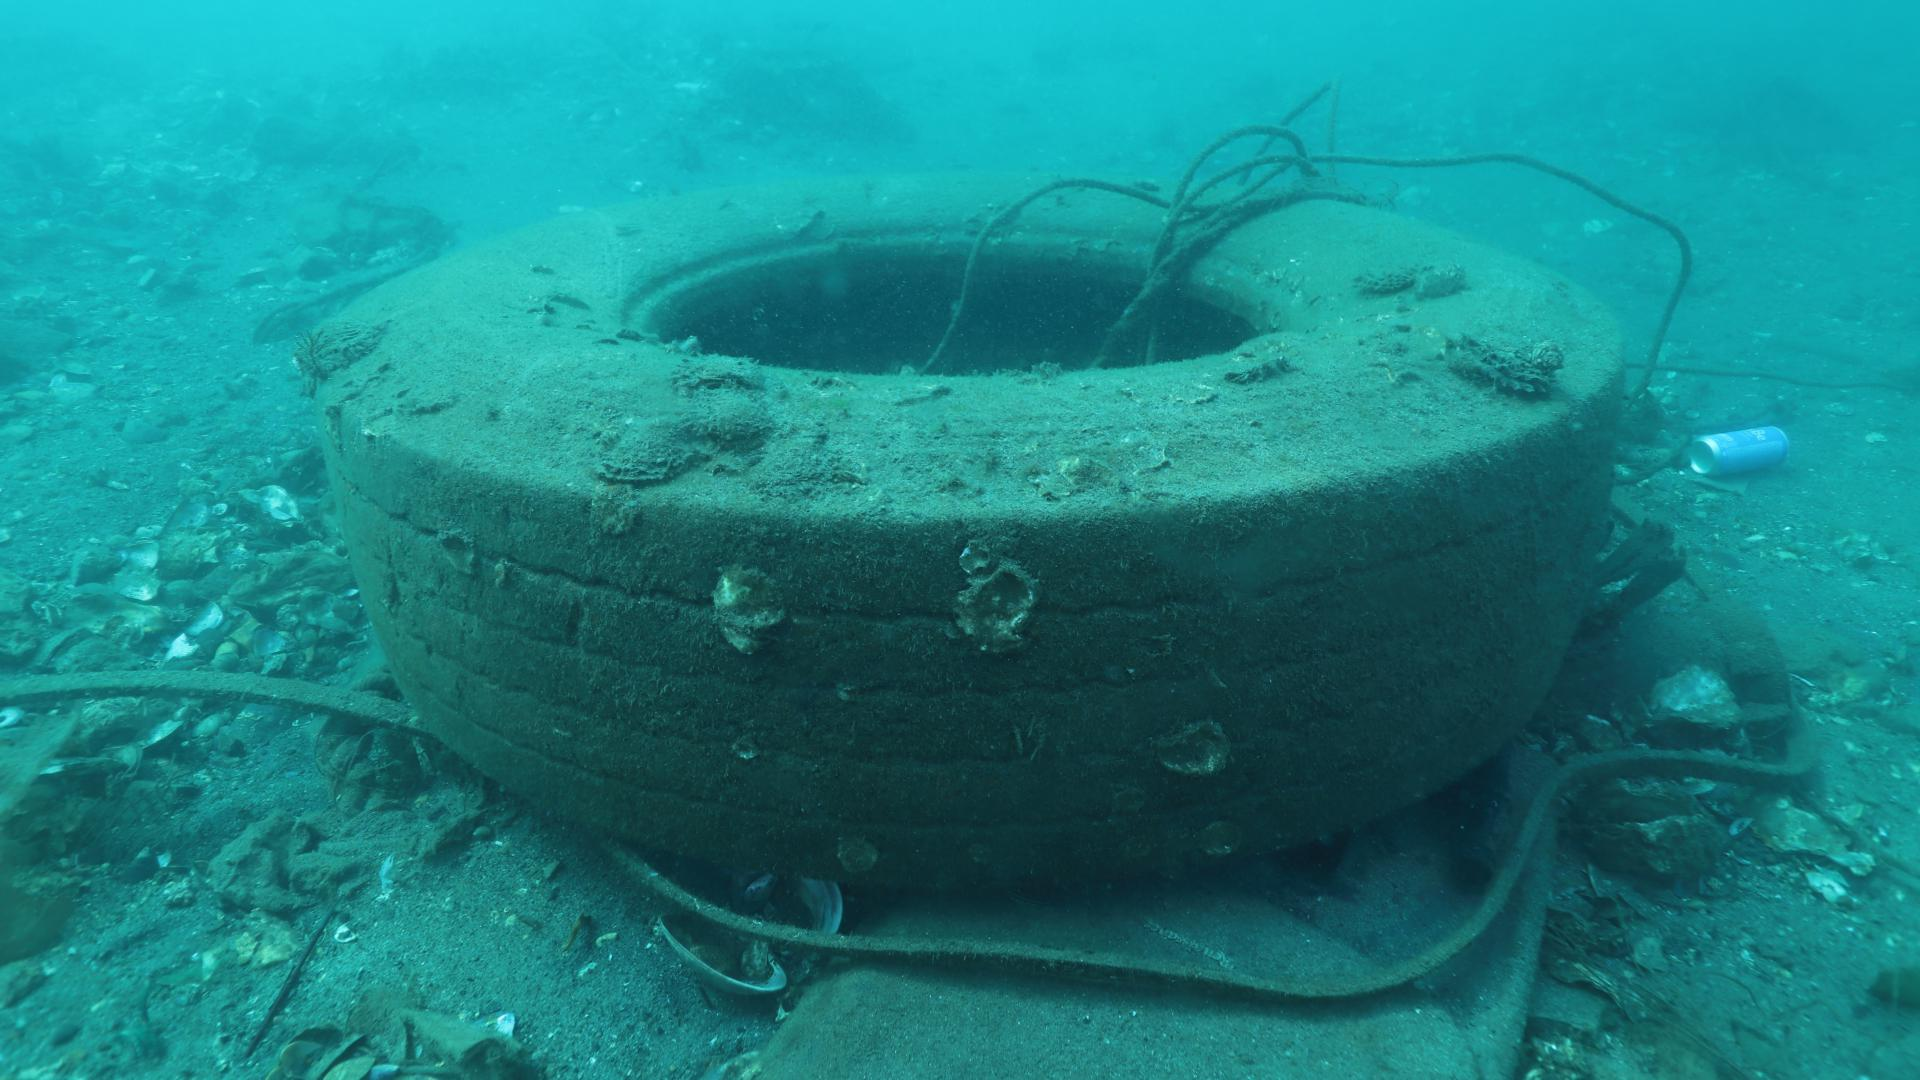bundle of ropes: (919, 74, 1695, 400)
tire: (319, 170, 1626, 889)
